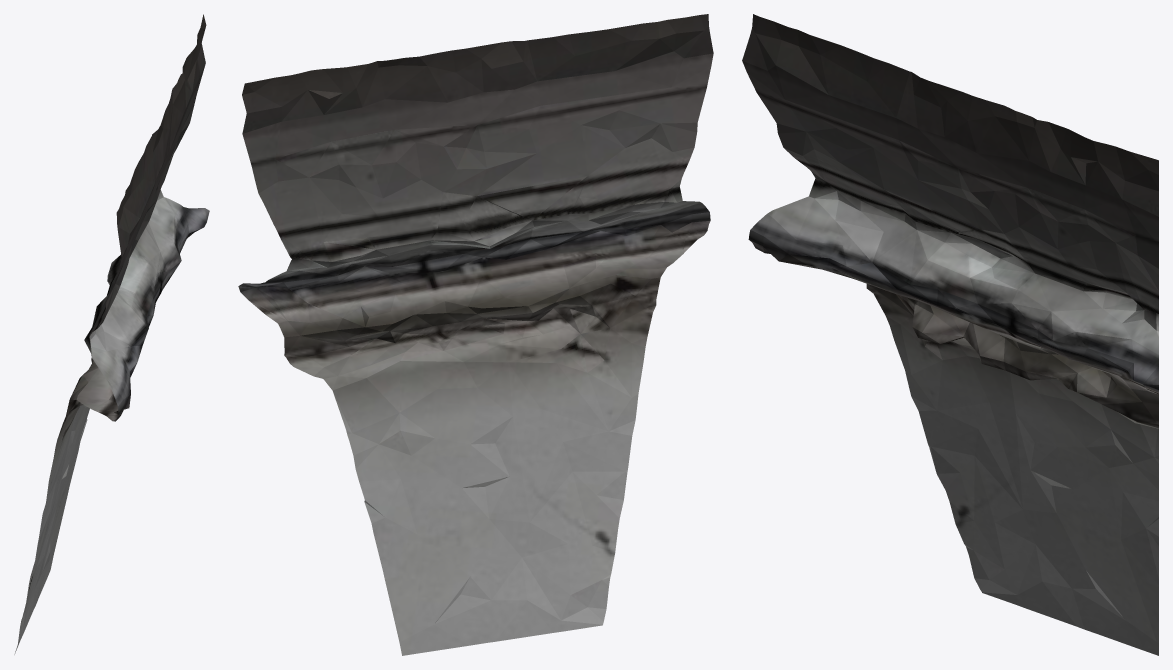
3 renders of one model, left to right at view 1: azimuth 30°, elevation 25°; view 2: azimuth 150°, elevation 25°; view 3: azimuth 270°, elevation 25°, orthographic. The views are drawn at different scales.
Bounding box in the file's own units: 0.4644 × 0.8374 × 0.5464.
Materials: 2 (2 with a texture image).
